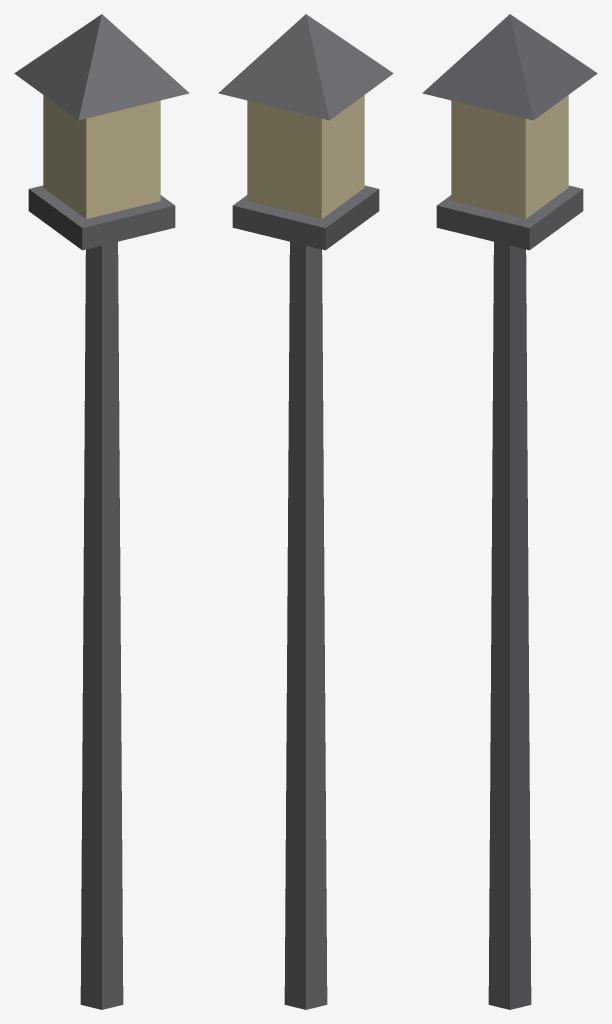
Rendered from lamp_post.glb.
3 views of the same model, side by side, from view 1: azimuth 30°, elevation 25°; view 2: azimuth 150°, elevation 25°; view 3: azimuth 330°, elevation 25° (orthographic).
Parts seen in each view (by area): view 1: lamp_post2; view 2: lamp_post2; view 3: lamp_post2.
Boxes of the visible parts, x1,y1,x2,y2 form: lamp_post2: (14,14,189,1009); lamp_post2: (218,14,393,1009); lamp_post2: (422,14,597,1009).
Size of the model in its own units: 0.42 by 3.55 by 0.42.
